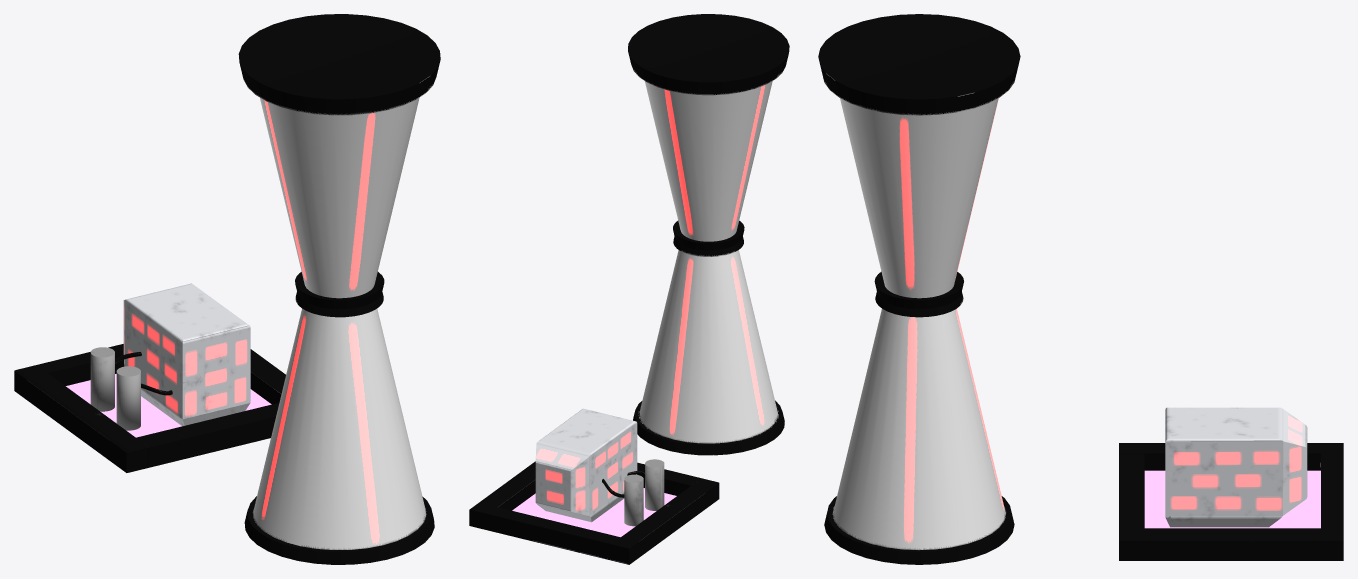
File: pack_hand_of_dominion_machines.fbx
3 renders of one model, left to right at view 1: azimuth 30°, elevation 25°; view 2: azimuth 150°, elevation 25°; view 3: azimuth 270°, elevation 25°, orthographic. The views are drawn at different scales.
Parts seen in each view (by area): view 1: Machine2, Machine1; view 2: Machine2, Machine1; view 3: Machine2, Machine1.
Boxes of the visible parts, x1=… form: Machine2: x1=238, y1=14, x2=440, y2=564; Machine1: x1=14, y1=283, x2=285, y2=472; Machine2: x1=628, y1=14, x2=789, y2=455; Machine1: x1=469, y1=408, x2=719, y2=564; Machine2: x1=818, y1=14, x2=1020, y2=564; Machine1: x1=1119, y1=407, x2=1343, y2=560.
Size of the model in its own units: 260 by 580 by 590.
